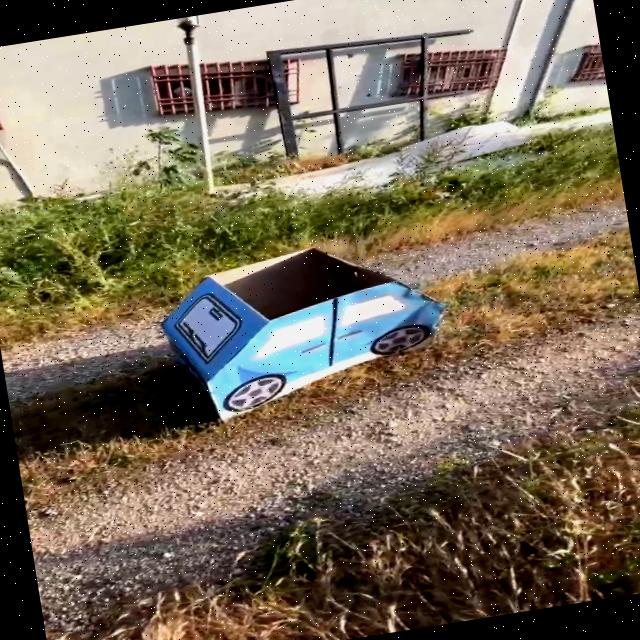blue_car: (106, 211, 487, 449)
